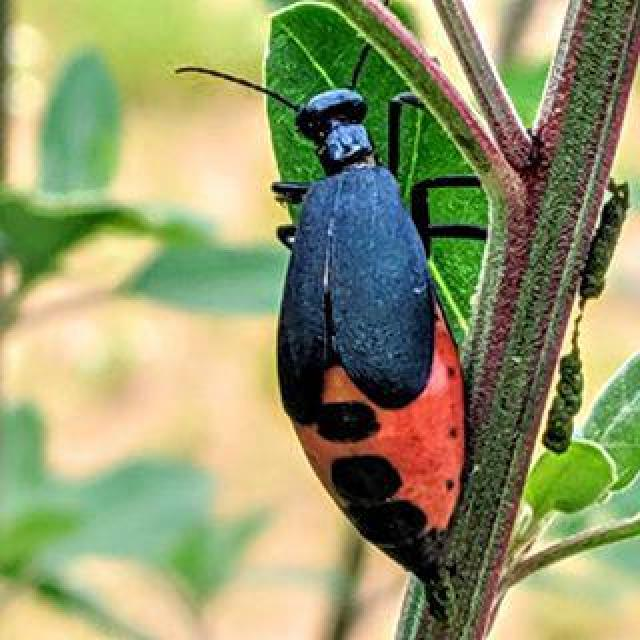BlisterBeetle-Adult-: (192, 23, 486, 600)
